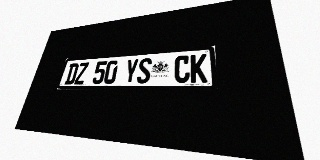0: (103, 60, 119, 84)
5: (92, 61, 107, 84)
C: (174, 55, 190, 83)
D: (64, 63, 79, 85)
K: (190, 54, 207, 83)
S: (136, 58, 152, 83)
Y: (123, 59, 139, 84)
Z: (74, 62, 89, 84)
